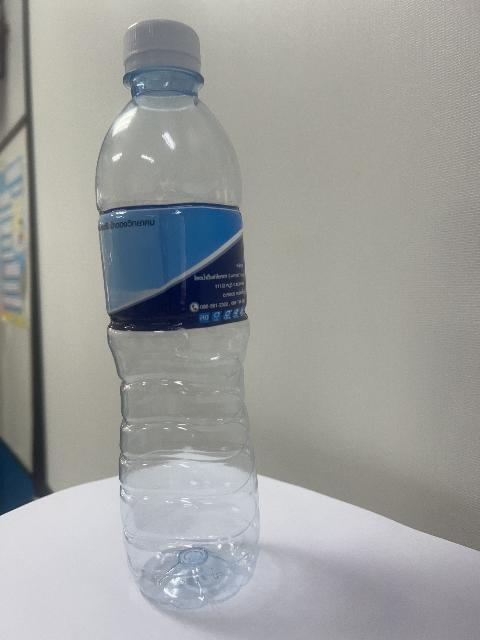bottle: (96, 20, 259, 610)
